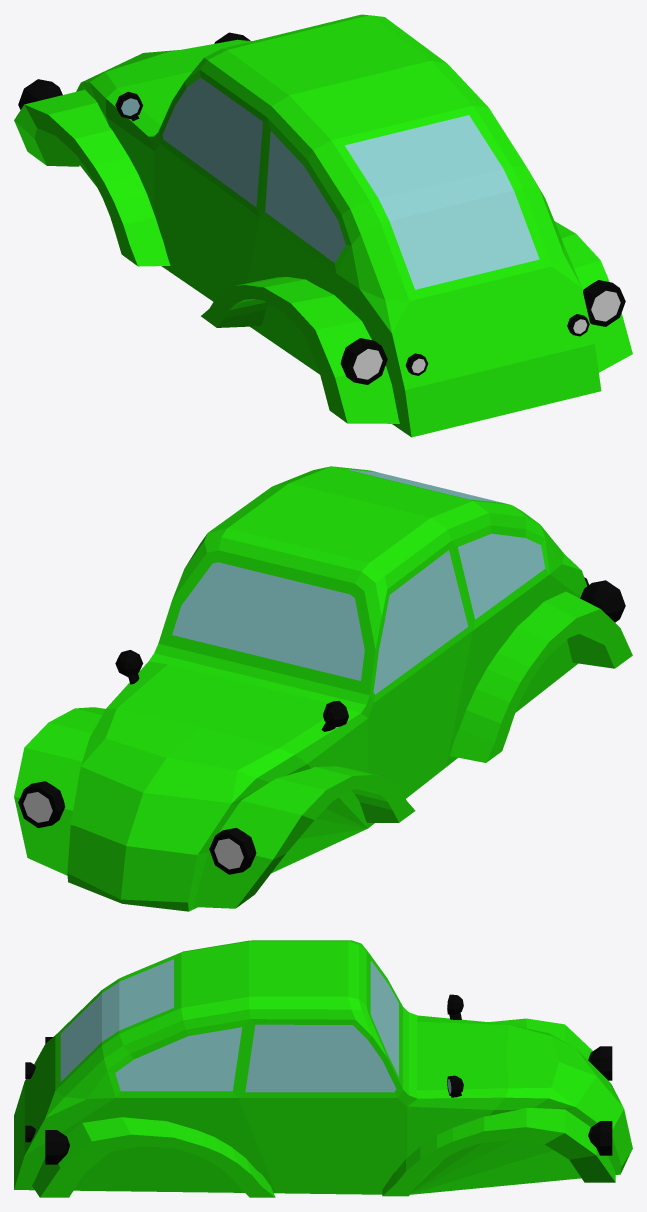
File: Starter.fbx
The picture shows the model from 3 angles, top to bottom: view 1: azimuth 30°, elevation 25°; view 2: azimuth 150°, elevation 25°; view 3: azimuth 270°, elevation 25°; orthographic projection. The views are drawn at different scales.
Parts seen in each view (by area): view 1: Starter; view 2: Starter; view 3: Starter.
Boxes of the visible parts, left/top/right/bottom form: Starter: left=14, top=14, right=632, bottom=437; Starter: left=14, top=466, right=632, bottom=911; Starter: left=14, top=940, right=632, bottom=1197.
Size of the model in its own units: 3.36 by 2.59 by 7.88.
